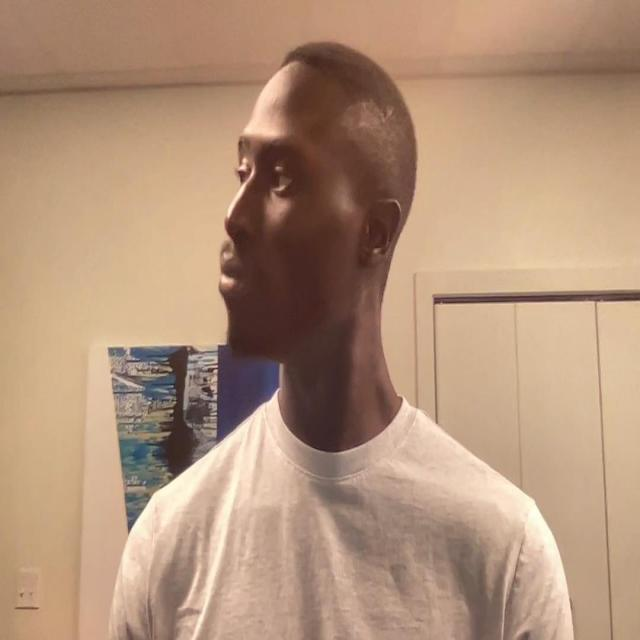face: (221, 87, 406, 361)
